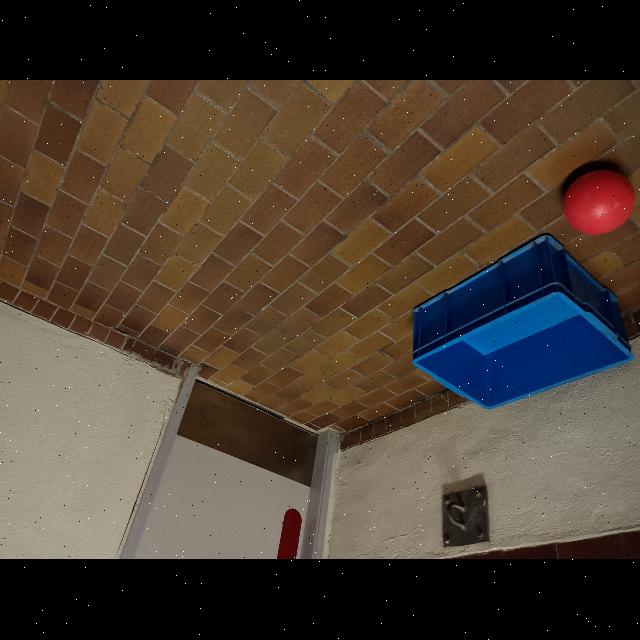R: (558, 163, 638, 239)
